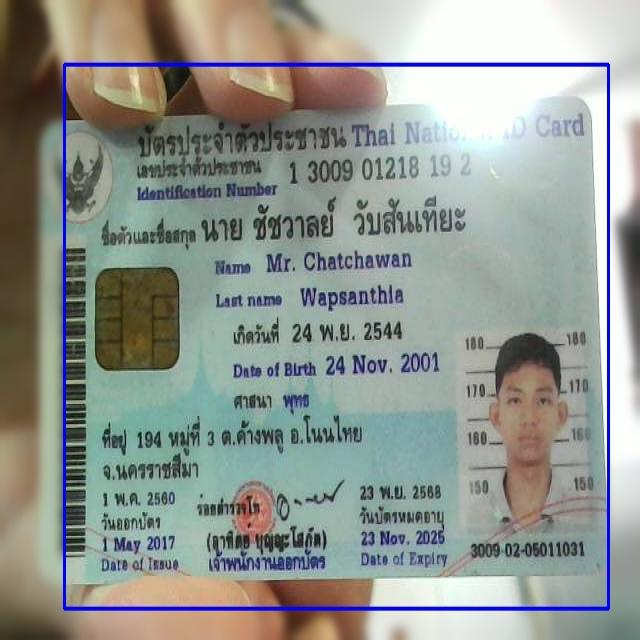Address_th: (99, 412, 368, 489)
Date_of_Birth: (323, 348, 443, 382)
Date_of_Expiry: (356, 528, 450, 549)
Date_of_Issue: (100, 532, 178, 558)
First_Name: (264, 245, 416, 277)
ID_Number: (283, 151, 475, 188)
Image: (454, 328, 595, 536)
Last_Name: (298, 280, 405, 314)
Thai_Name: (197, 190, 476, 248)
